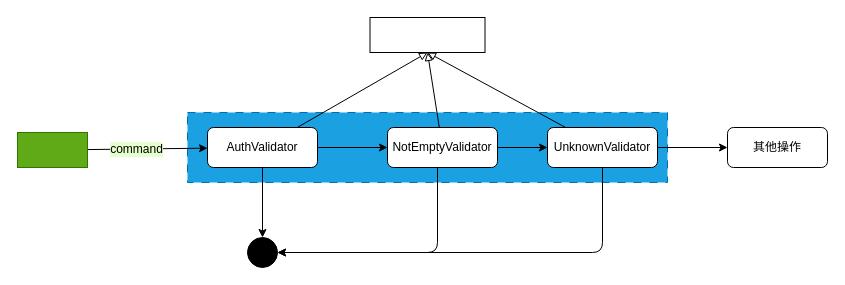
The diagram is 845 pixels wide and 285 high, and some of its shapes have lost their labels. The shapes that lost their labels are listed below. From the top down, each one's centre as x and y in pixels, then its label:
At [427,34]: "CmdValidator".
At [52,150]: "Client".
